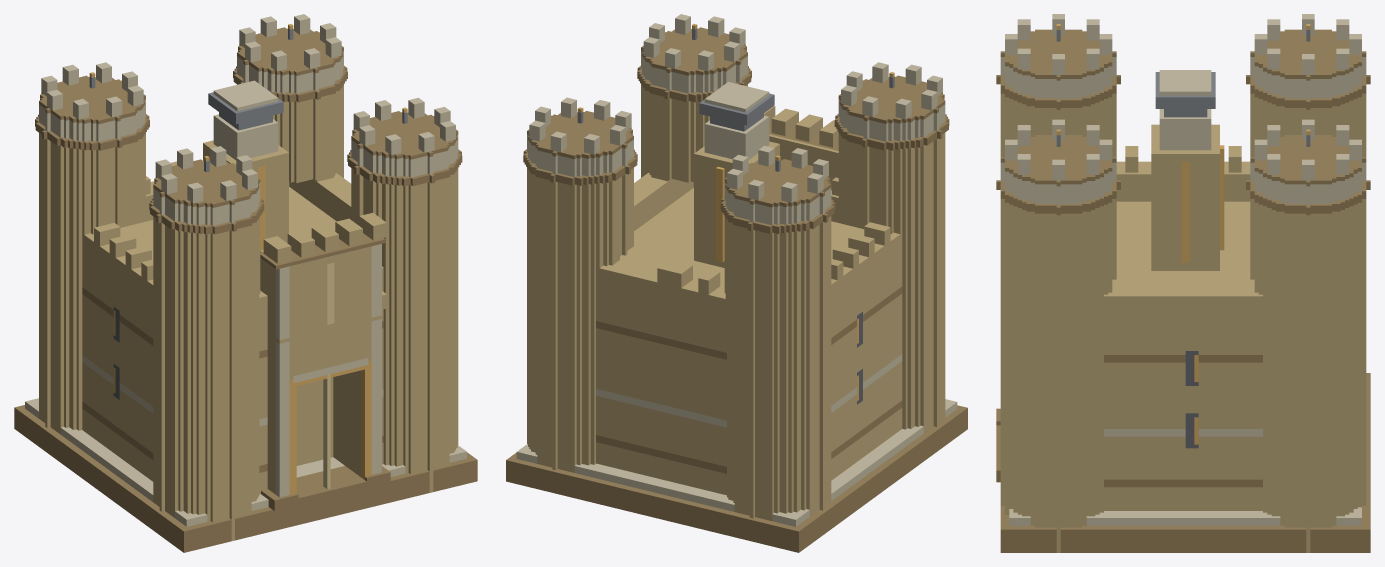
File: keep.glb
The picture shows the model from 3 angles, left to right: view 1: azimuth 30°, elevation 25°; view 2: azimuth 150°, elevation 25°; view 3: azimuth 270°, elevation 25°; orthographic projection. The views are drawn at different scales.
Size of the model in its own units: 87 by 102 by 87.
